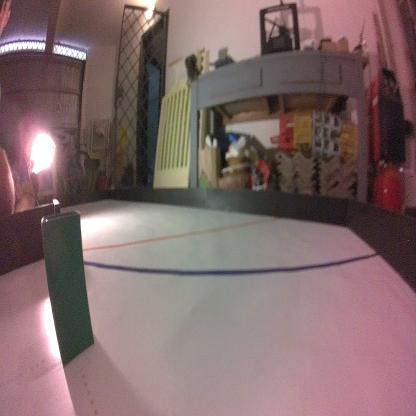green: (39, 208, 98, 373)
